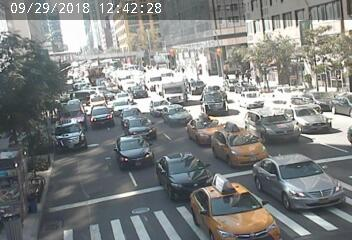car: (258, 166, 331, 212), (195, 187, 262, 226), (164, 155, 216, 187), (117, 134, 149, 167), (211, 128, 251, 154), (248, 112, 289, 137), (285, 104, 322, 124), (52, 125, 79, 152), (161, 107, 192, 127), (60, 102, 87, 124), (159, 79, 187, 100), (241, 90, 265, 111), (91, 108, 117, 126), (190, 122, 215, 138), (126, 120, 154, 134), (144, 66, 163, 84), (119, 108, 145, 121), (204, 92, 228, 106), (130, 83, 147, 100), (89, 94, 109, 107), (112, 100, 132, 110), (148, 96, 164, 106), (74, 90, 89, 99), (117, 89, 131, 96)
